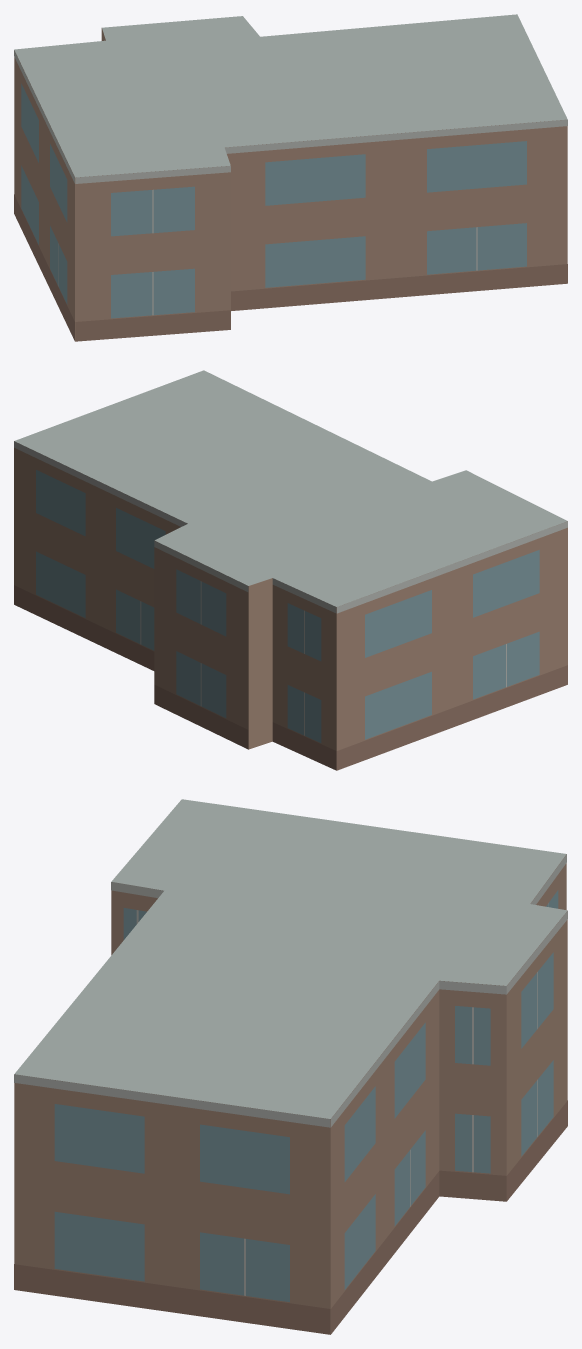
The model's file is survey-upis-32527475.glb.
The picture shows the model from 3 angles, top to bottom: view 1: azimuth 30°, elevation 25°; view 2: azimuth 150°, elevation 25°; view 3: azimuth 270°, elevation 25°; orthographic projection. The views are drawn at different scales.
Visible parts, largest first — view 1: survey-upis-32527475.tmp; view 2: survey-upis-32527475.tmp; view 3: survey-upis-32527475.tmp.
Boxes of the visible parts, <box> form: survey-upis-32527475.tmp: <box>14,14,567,341</box>; survey-upis-32527475.tmp: <box>14,370,567,770</box>; survey-upis-32527475.tmp: <box>14,799,567,1334</box>.
Size of the model in its own units: 19.42 by 6.1 by 14.2.
